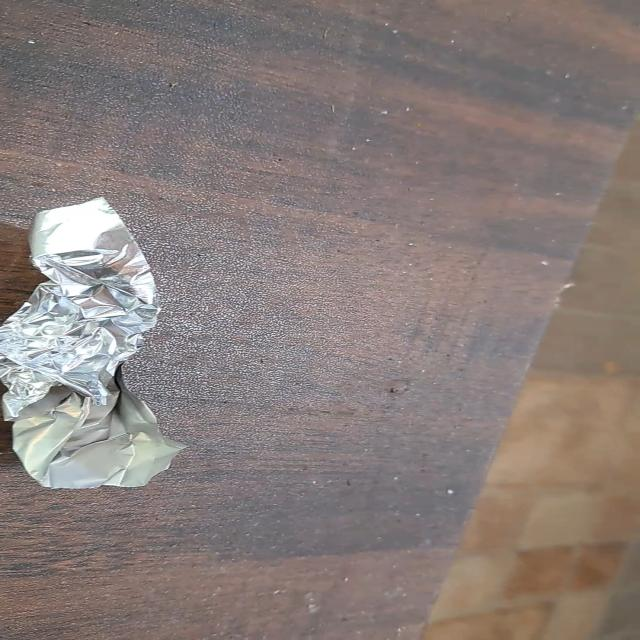Anorganik: (0, 200, 184, 490)
